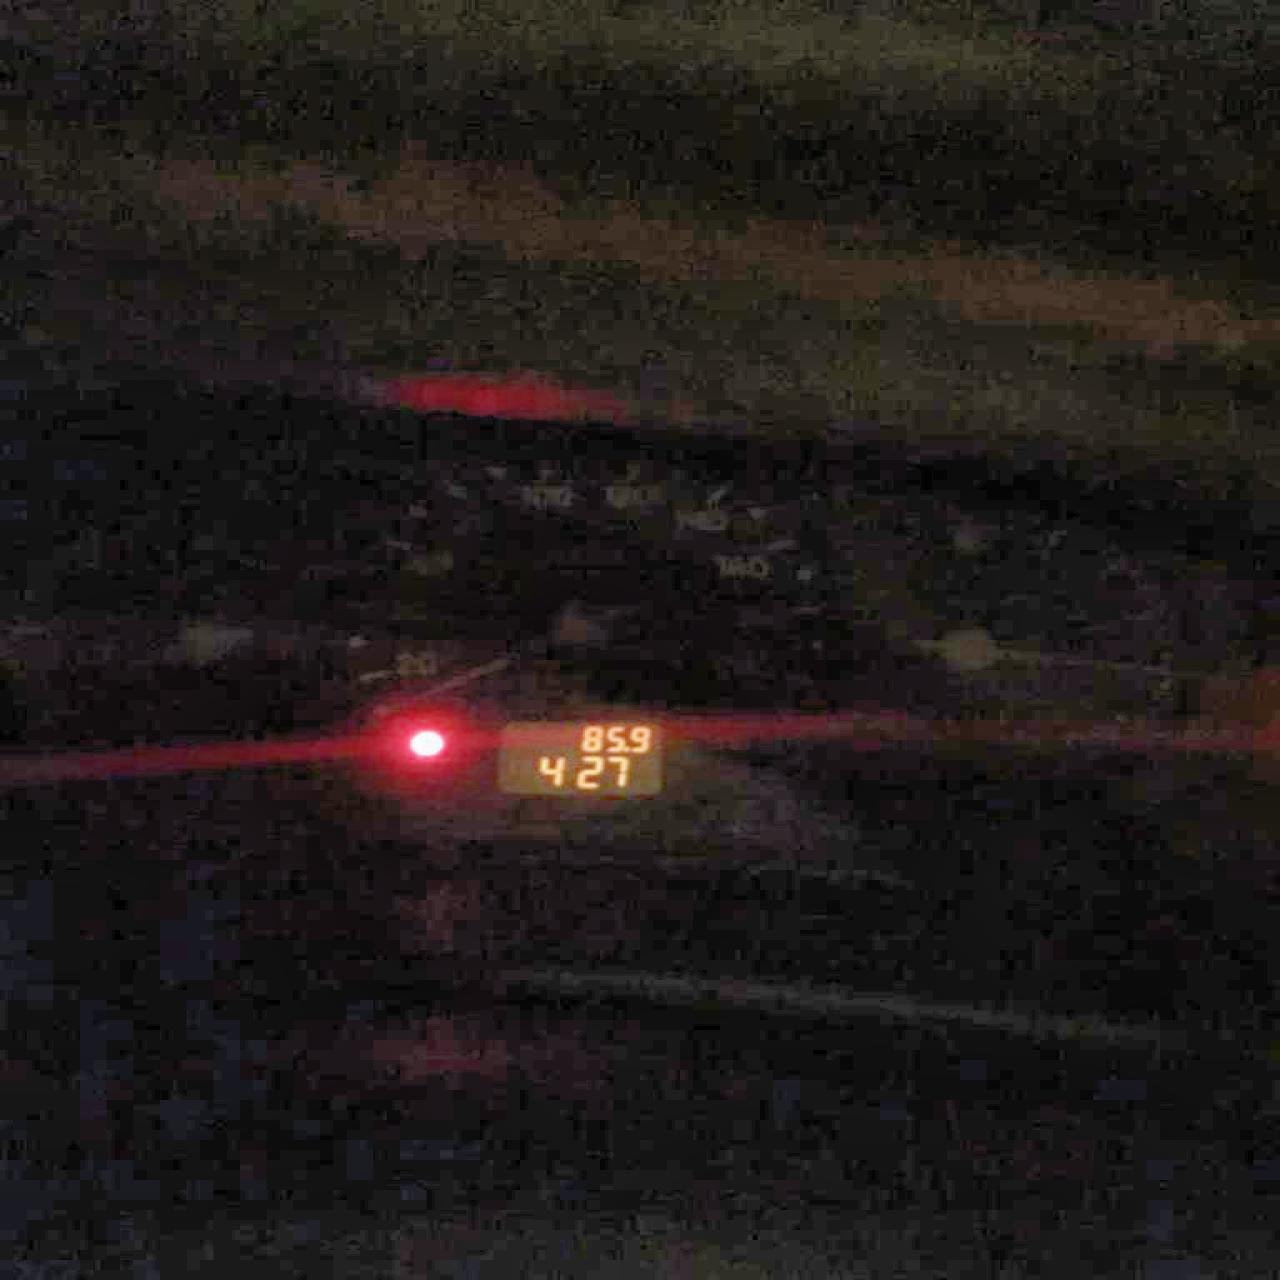-: (621, 745, 631, 753)
2: (574, 755, 604, 789)
4: (537, 755, 565, 787)
5: (605, 726, 625, 751)
7: (604, 755, 628, 787)
8: (578, 726, 601, 751)
9: (628, 726, 649, 753)
odometer: (492, 717, 668, 798)
